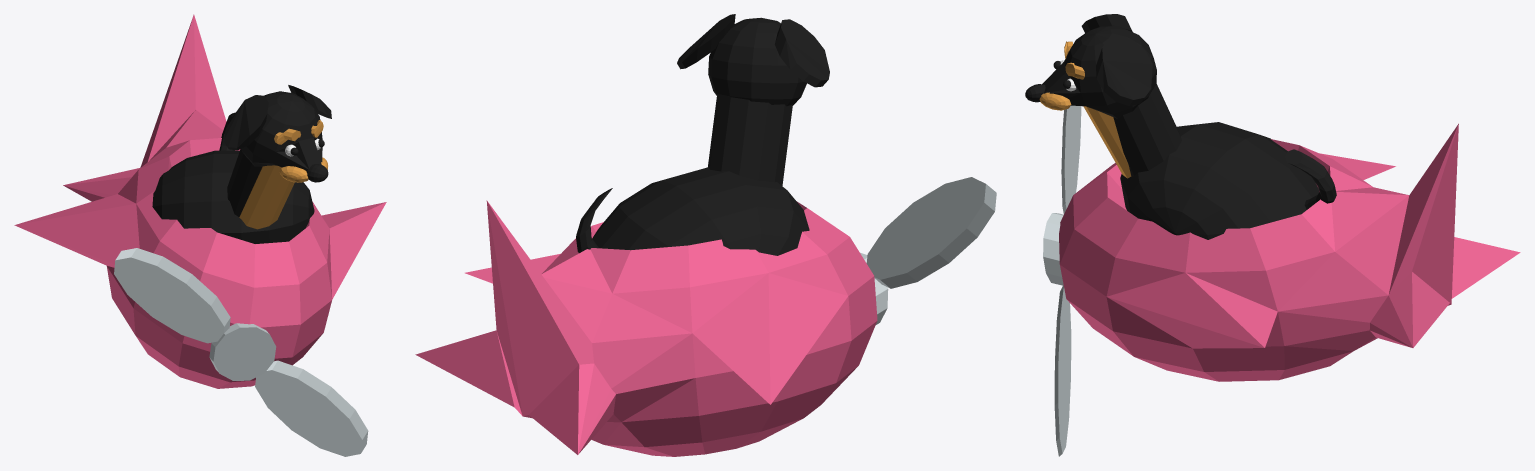
Rendered from Dog-in-plane.glb.
3 views of the same model, side by side, from view 1: azimuth 30°, elevation 25°; view 2: azimuth 150°, elevation 25°; view 3: azimuth 270°, elevation 25° (orthographic). The views are drawn at different scales.
Visible parts, largest first — view 1: Node.001; view 2: Node.001; view 3: Node.001.
Boxes of the visible parts, bbox=[...] form: Node.001: bbox=[14, 14, 386, 456]; Node.001: bbox=[415, 14, 996, 456]; Node.001: bbox=[1025, 14, 1520, 456].
Bounding box in the file's own units: 3.84 × 3.72 × 4.15.
